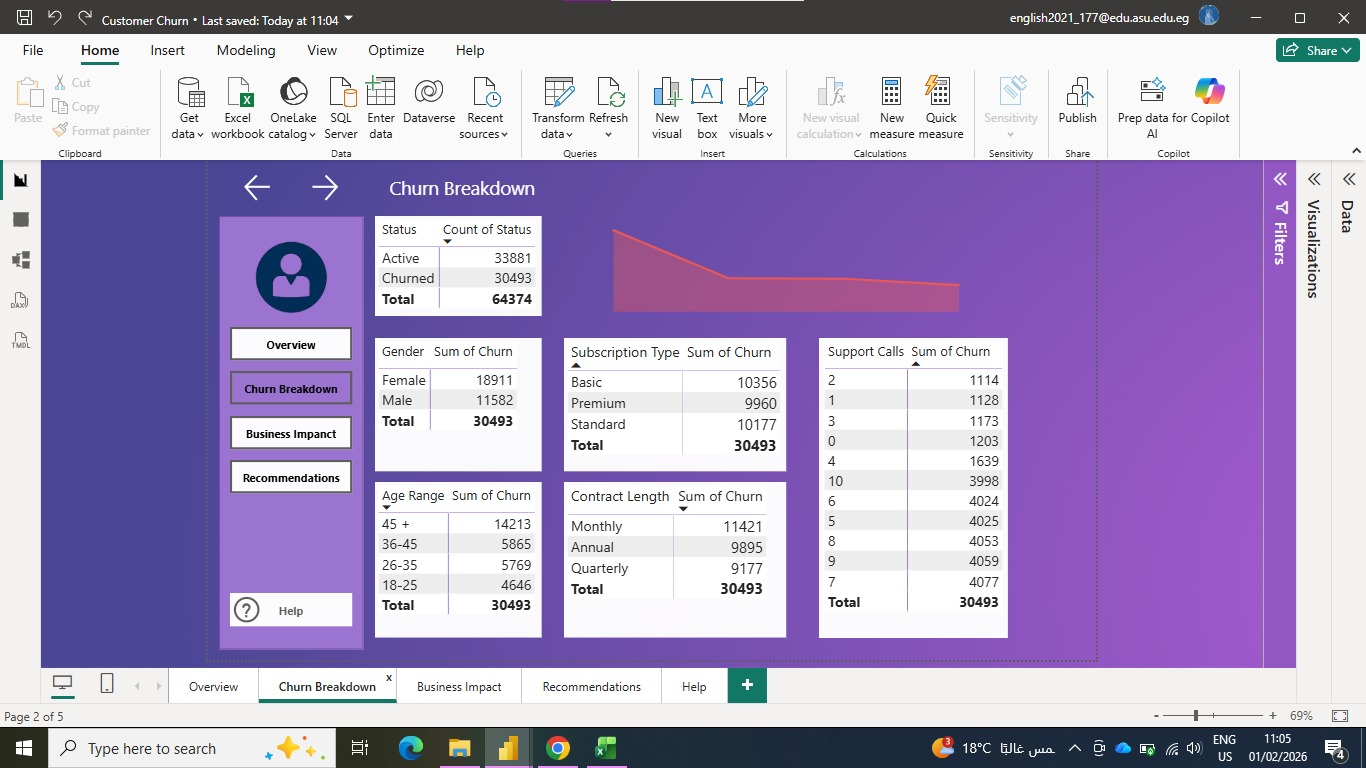

What the dashboard file says about the page in this screenshot:
{"tool":"powerbi","page":{"name":"Churn Breakdown","canvas":[1280,720],"ordinal":1},"visuals":[{"type":"textbox","box":[256,16,992,48],"z":0},{"type":"pivotTable","fields":{"Rows":["customer_churn_dataset-testing-.Support Calls"],"Values":["Sum(customer_churn_dataset-testing-.Churn)"]},"box":[880,256,272,432],"z":1000},{"type":"pivotTable","fields":{"Rows":["customer_churn_dataset-testing-.Age Range"],"Values":["Sum(customer_churn_dataset-testing-.Churn)"]},"box":[240,464,240,224],"z":2000},{"type":"pivotTable","fields":{"Rows":["customer_churn_dataset-testing-.Gender"],"Values":["Sum(customer_churn_dataset-testing-.Churn)"]},"box":[240,256,240,192],"z":3000},{"type":"pivotTable","fields":{"Rows":["customer_churn_dataset-testing-.Subscription Type"],"Values":["Sum(customer_churn_dataset-testing-.Churn)"]},"box":[512,256,320,192],"z":4000},{"type":"pivotTable","fields":{"Rows":["customer_churn_dataset-testing-.Contract Length"],"Values":["Sum(customer_churn_dataset-testing-.Churn)"]},"box":[512,464,320,224],"z":5000},{"type":"pivotTable","fields":{"Rows":["1-0.Churn"],"Values":["CountNonNull(1-0.Churn)"]},"box":[240,80,240,144],"z":6000},{"type":"shape","box":[16,80,208,624],"z":7000},{"type":"image","box":[16,112,208,112],"z":8000},{"type":"actionButton","box":[32,240,176,48],"z":9000},{"type":"actionButton","box":[32,304,176,48],"z":10000},{"type":"actionButton","box":[32,368,176,48],"z":11000},{"type":"actionButton","box":[32,432,176,48],"z":12000},{"type":"actionButton","box":[32,624,176,48],"z":13000},{"type":"actionButton","box":[48,16,64,48],"z":14000},{"type":"actionButton","box":[144,16,64,48],"z":15000},{"type":"stackedAreaChart","fields":{"Category":["customer_churn_dataset-testing-.Age Range"],"Y":["Sum(customer_churn_dataset-testing-.Churn)"]},"box":[512,80,640,144],"z":16000}]}

Visuals, with their boxes on the page's 1280x720 design canvas (x1, y1, x2, y2). These are canvas units, not pixel positions in the 1366x768 screenshot, which may show the page scaled, cropped or inside an application window:
textbox: bbox=[256, 16, 1248, 64]
pivotTable - customer_churn_dataset-testing-.Support Calls x Sum(customer_churn_dataset-testing-.Churn): bbox=[880, 256, 1152, 688]
pivotTable - customer_churn_dataset-testing-.Age Range x Sum(customer_churn_dataset-testing-.Churn): bbox=[240, 464, 480, 688]
pivotTable - customer_churn_dataset-testing-.Gender x Sum(customer_churn_dataset-testing-.Churn): bbox=[240, 256, 480, 448]
pivotTable - customer_churn_dataset-testing-.Subscription Type x Sum(customer_churn_dataset-testing-.Churn): bbox=[512, 256, 832, 448]
pivotTable - customer_churn_dataset-testing-.Contract Length x Sum(customer_churn_dataset-testing-.Churn): bbox=[512, 464, 832, 688]
pivotTable - 1-0.Churn x CountNonNull(1-0.Churn): bbox=[240, 80, 480, 224]
shape: bbox=[16, 80, 224, 704]
image: bbox=[16, 112, 224, 224]
actionButton: bbox=[32, 240, 208, 288]
actionButton: bbox=[32, 304, 208, 352]
actionButton: bbox=[32, 368, 208, 416]
actionButton: bbox=[32, 432, 208, 480]
actionButton: bbox=[32, 624, 208, 672]
actionButton: bbox=[48, 16, 112, 64]
actionButton: bbox=[144, 16, 208, 64]
stackedAreaChart - customer_churn_dataset-testing-.Age Range x Sum(customer_churn_dataset-testing-.Churn): bbox=[512, 80, 1152, 224]
